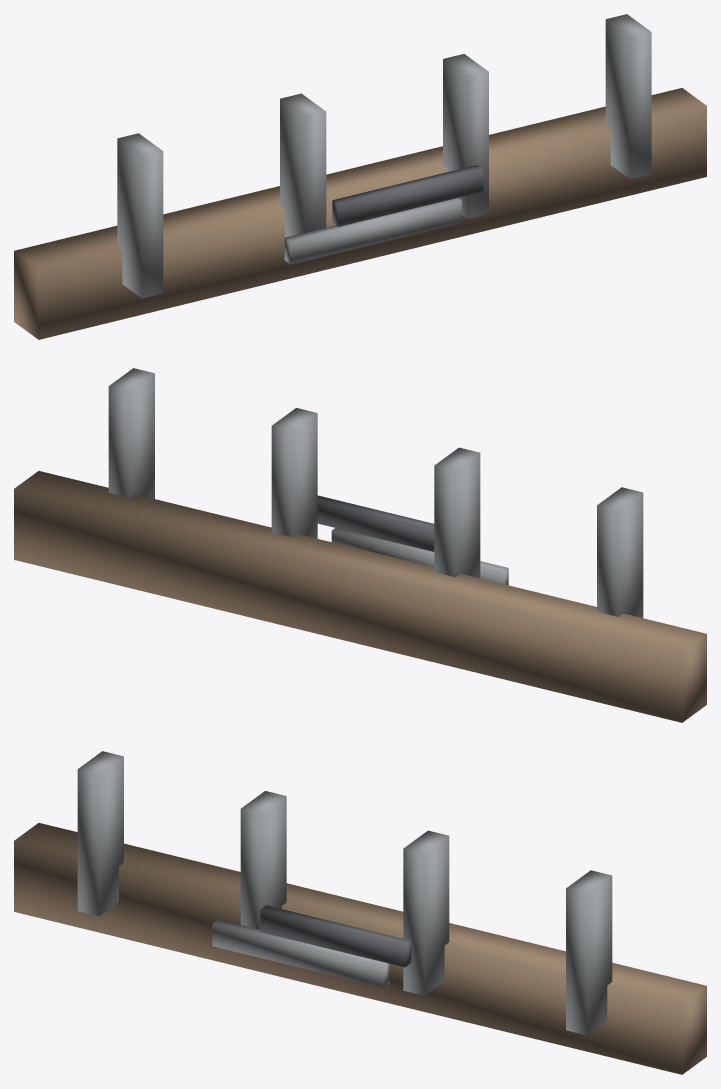
File: coat_hook_rail__weathered.glb
The picture shows the model from 3 angles, top to bottom: view 1: azimuth 30°, elevation 25°; view 2: azimuth 150°, elevation 25°; view 3: azimuth 330°, elevation 25°; orthographic projection.
Parts seen in each view (by area): view 1: world; view 2: world; view 3: world.
Boxes of the visible parts, x1=… form: world: x1=14, y1=14, x2=706, y2=339; world: x1=14, y1=368, x2=706, y2=722; world: x1=14, y1=751, x2=706, y2=1074.
Size of the model in its own units: 0.78 by 0.198 by 0.104.
